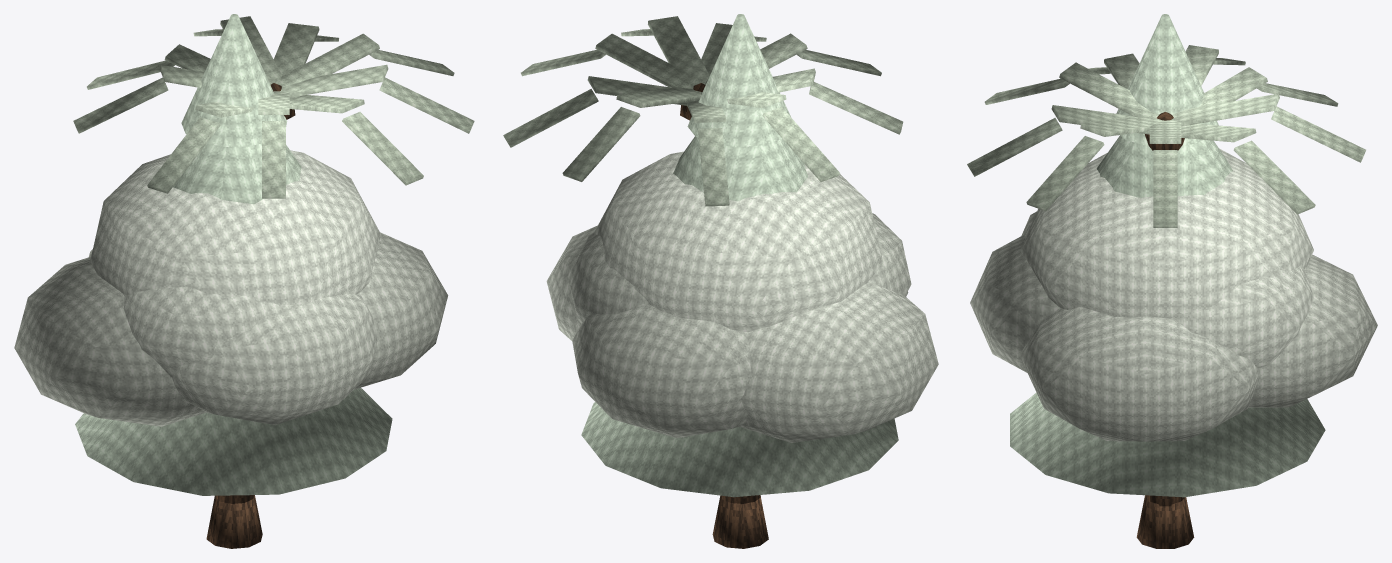
File: env_trees_biome.glb
3 renders of one model, left to right at view 1: azimuth 30°, elevation 25°; view 2: azimuth 150°, elevation 25°; view 3: azimuth 270°, elevation 25°, orthographic.
Visible parts, largest first — view 1: Tree_Deciduous_LOD0, Tree_Pine_LOD0, Tree_Palm_LOD0; view 2: Tree_Deciduous_LOD0, Tree_Pine_LOD0, Tree_Palm_LOD0; view 3: Tree_Deciduous_LOD0, Tree_Pine_LOD0, Tree_Palm_LOD0.
Part boxes in pixels (left/top/right/bottom): Tree_Deciduous_LOD0: left=14, top=150, right=448, bottom=548; Tree_Pine_LOD0: left=75, top=14, right=392, bottom=495; Tree_Palm_LOD0: left=73, top=16, right=474, bottom=497; Tree_Deciduous_LOD0: left=546, top=151, right=938, bottom=548; Tree_Pine_LOD0: left=581, top=14, right=898, bottom=497; Tree_Palm_LOD0: left=503, top=16, right=903, bottom=498; Tree_Deciduous_LOD0: left=970, top=148, right=1377, bottom=548; Tree_Pine_LOD0: left=1010, top=14, right=1325, bottom=497; Tree_Palm_LOD0: left=967, top=45, right=1365, bottom=506.
Size of what is drawn, in the model's own units: 10.04 by 12.44 by 8.85.
4 materials, 4 textured.
